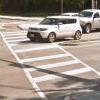Crosswalk: (7, 42, 93, 99)
